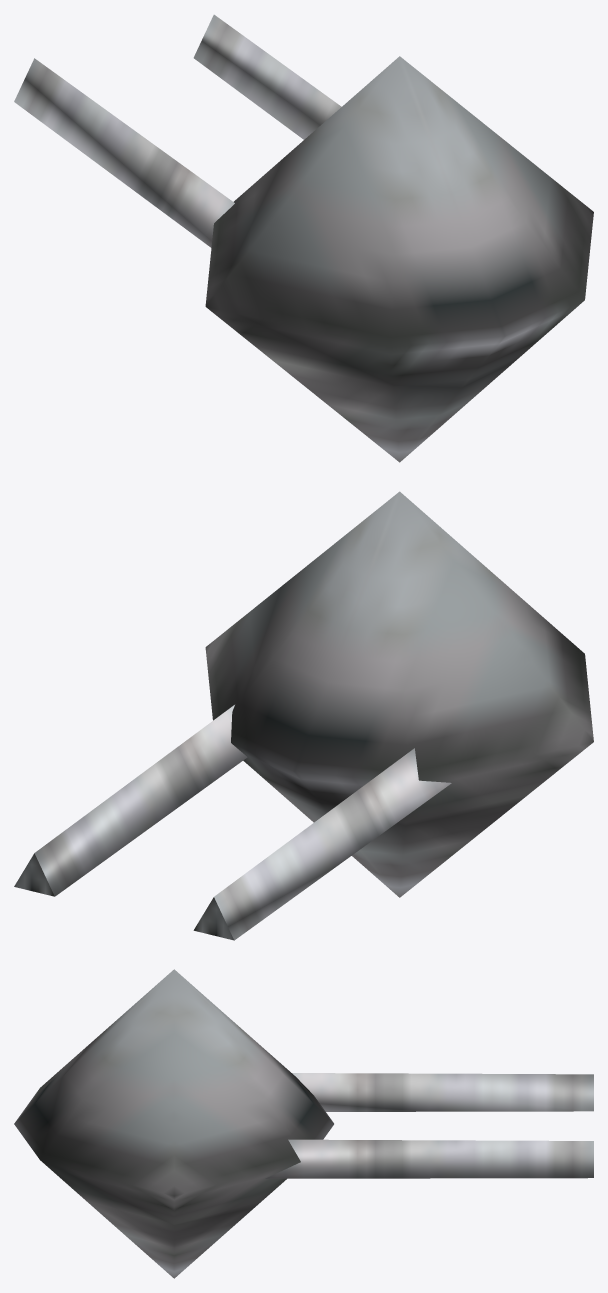
File: lambda_turret_l3.fbx
The picture shows the model from 3 angles, top to bottom: view 1: azimuth 30°, elevation 25°; view 2: azimuth 150°, elevation 25°; view 3: azimuth 270°, elevation 25°; orthographic projection. The views are drawn at different scales.
Parts seen in each view (by area): view 1: mesh_node; view 2: mesh_node; view 3: mesh_node.
Part boxes in pixels (x1,y1,x2,y2): mesh_node: (14,14,593,462); mesh_node: (14,491,593,940); mesh_node: (14,969,593,1278).
Bounding box in the file's own units: 1.5 × 1.5 × 2.54.
1 material, 1 textured.
